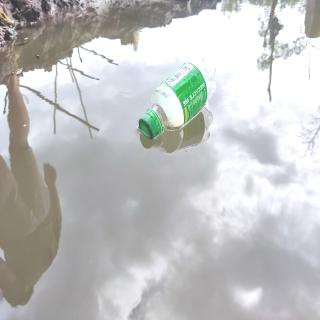bottle: (136, 51, 218, 142)
